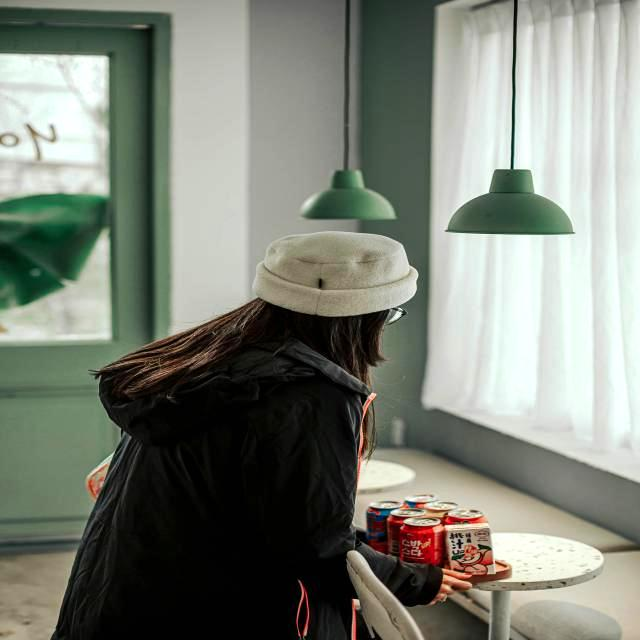no_hard_hat: (253, 231, 418, 317)
person: (48, 236, 471, 640)
